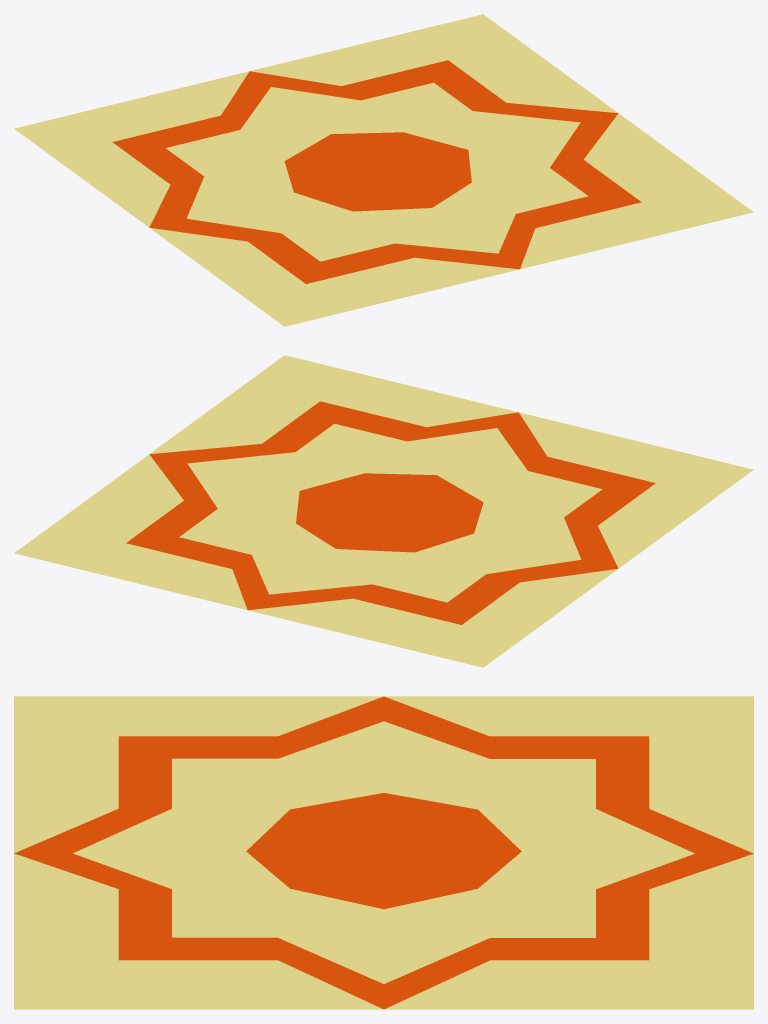
The model's file is top_2.FBX.
3 views of the same model, one above another, from view 1: azimuth 30°, elevation 25°; view 2: azimuth 150°, elevation 25°; view 3: azimuth 270°, elevation 25° (orthographic). The views are drawn at different scales.
Visible parts, largest first — view 1: top2; view 2: top2; view 3: top2.
Boxes of the visible parts, x1,y1,x2,y2 form: top2: (14, 14, 753, 326); top2: (14, 355, 753, 667); top2: (14, 696, 753, 1009).
Size of the model in its own units: 10 by 1.07e-06 by 9.99.
